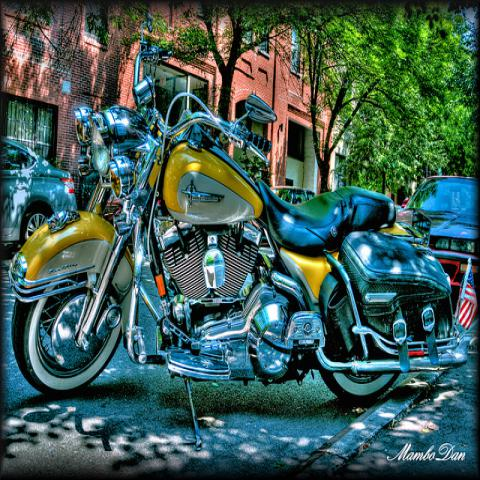car: (403, 174, 476, 293), (0, 137, 77, 247), (268, 185, 316, 204)
motorcycle: (5, 10, 472, 452)
